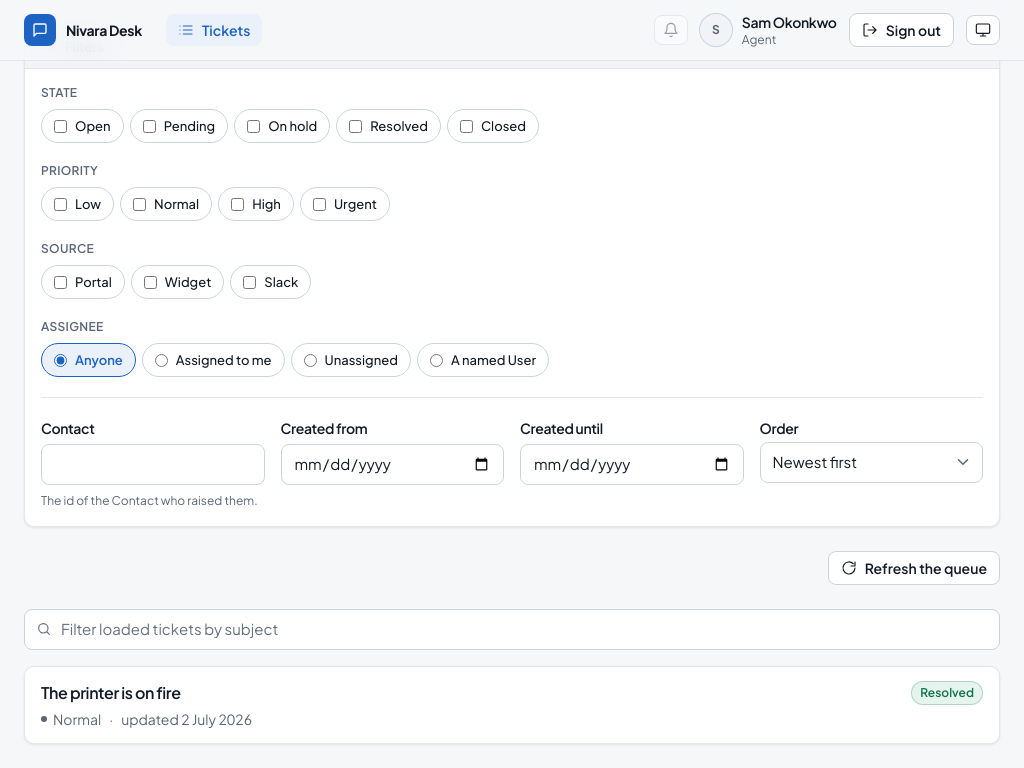
Scenario: changing a Ticket's state › says a refused transition was refused, and puts the state back
(page scrolled)
Click the button "The printer is on fire Normal · updated 2 July 2026 Resolved": point(111, 692) [25,666,999,742]
(page scrolled)
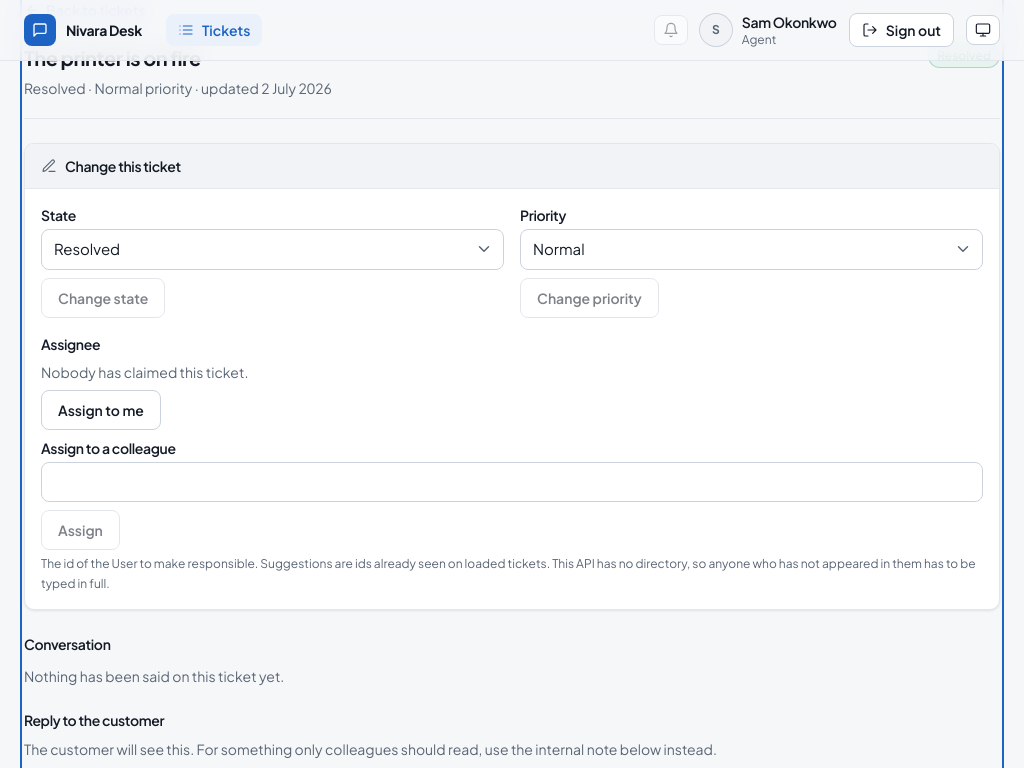
Expected: the heading "The printer is on fire" is shown, [24,44,201,72]
Select "Closed" in the dropdown labelled "State": point(272, 249) [41,229,504,270]
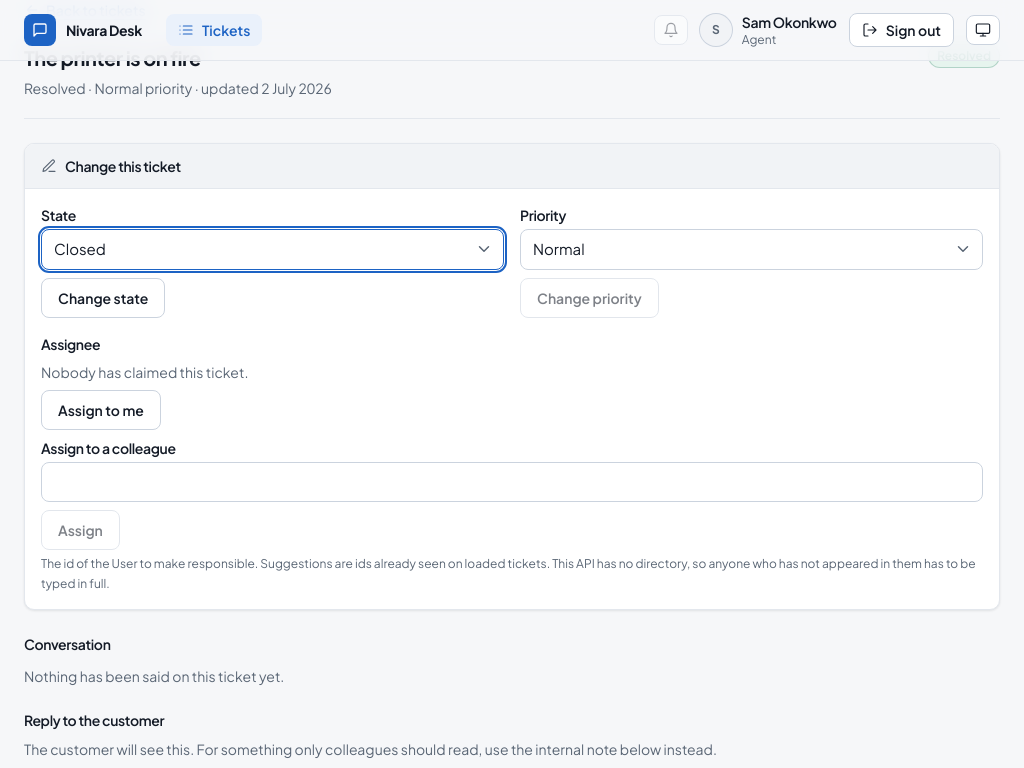
Click the button "Change state": point(103, 298) [41,278,165,318]
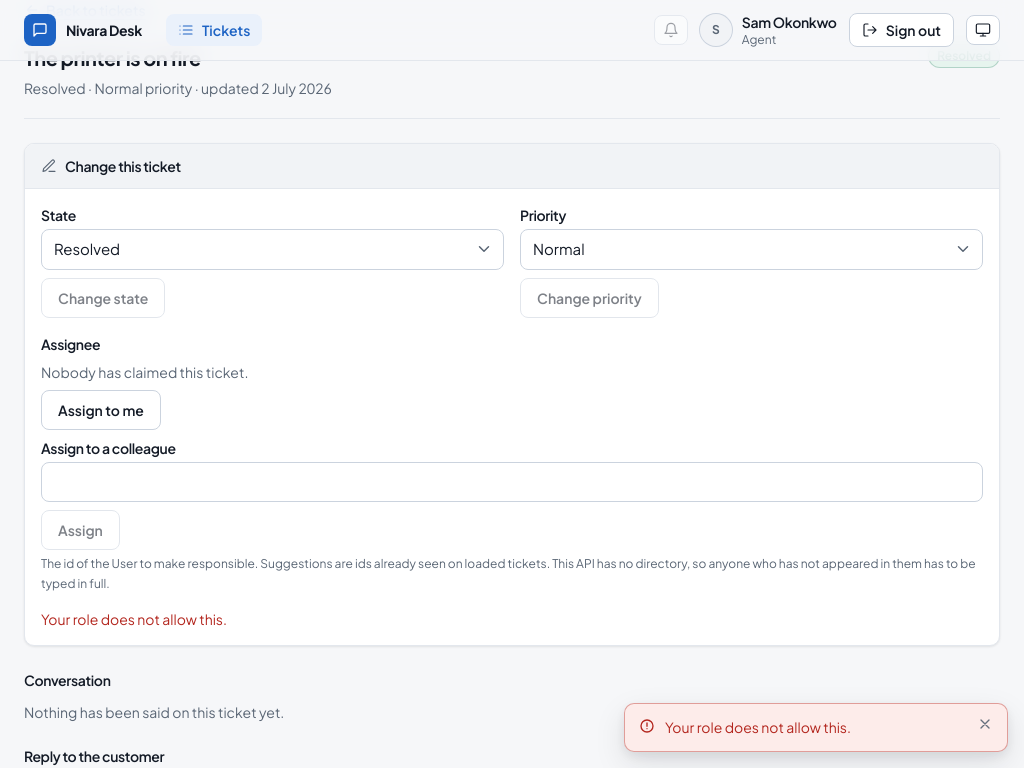
Expected: the text "Resolved · Normal priority · updated 2 July 2026" is shown, [24,79,332,97]
Expected: the message shows "Your role does not allow this", [665,718,851,736]
